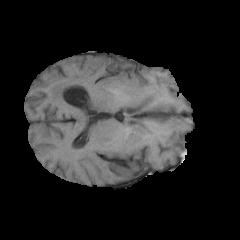glioma: (51, 58, 161, 111)
